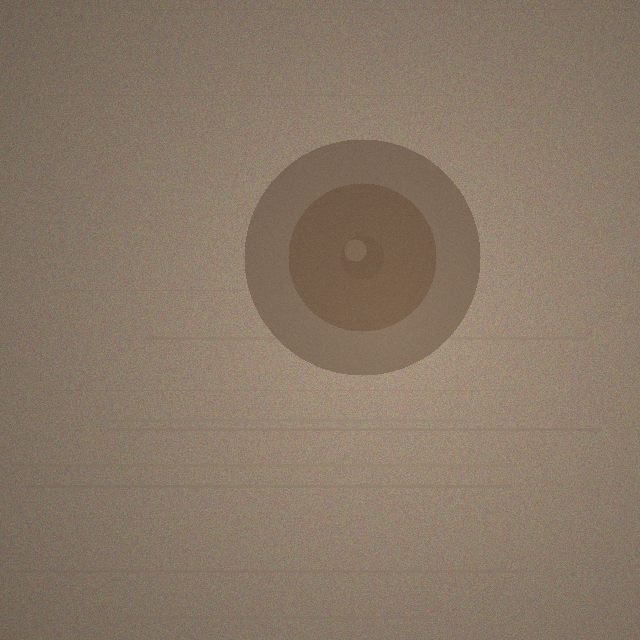good: (244, 139, 480, 375)
